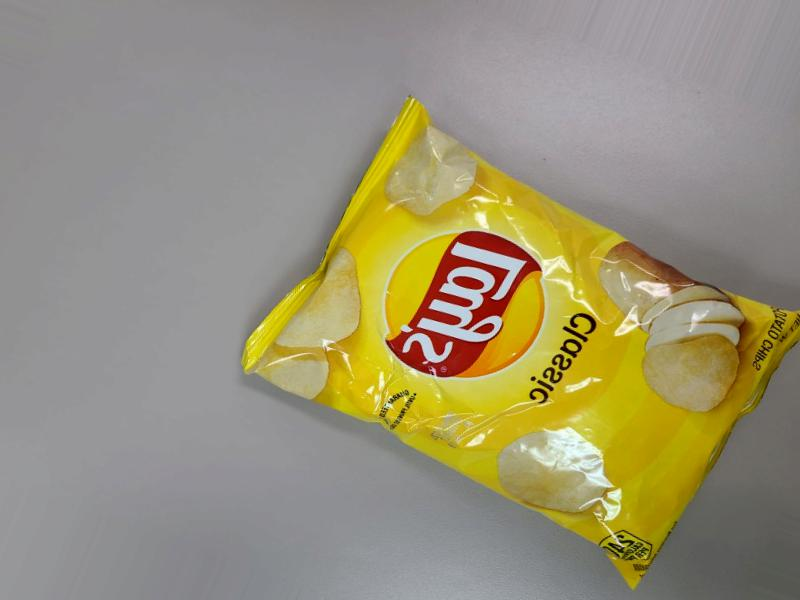lays: (343, 69, 771, 600)
